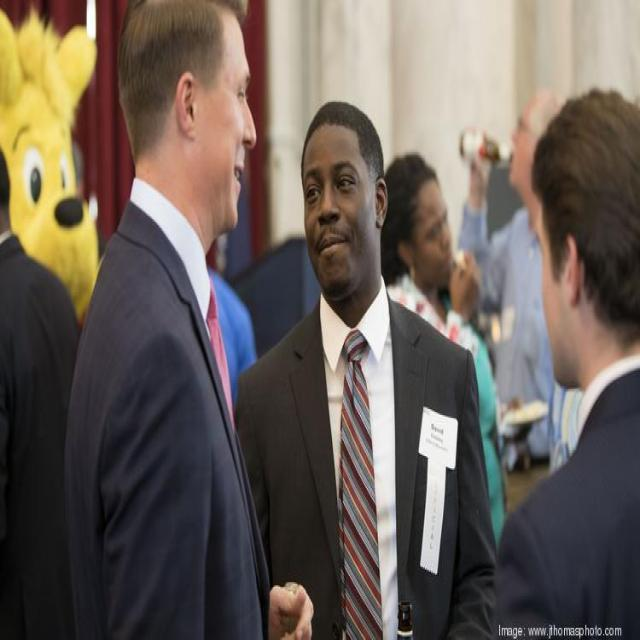bareface: (116, 1, 253, 244), (302, 91, 374, 298), (535, 196, 579, 386), (418, 199, 458, 284), (508, 99, 532, 204)
